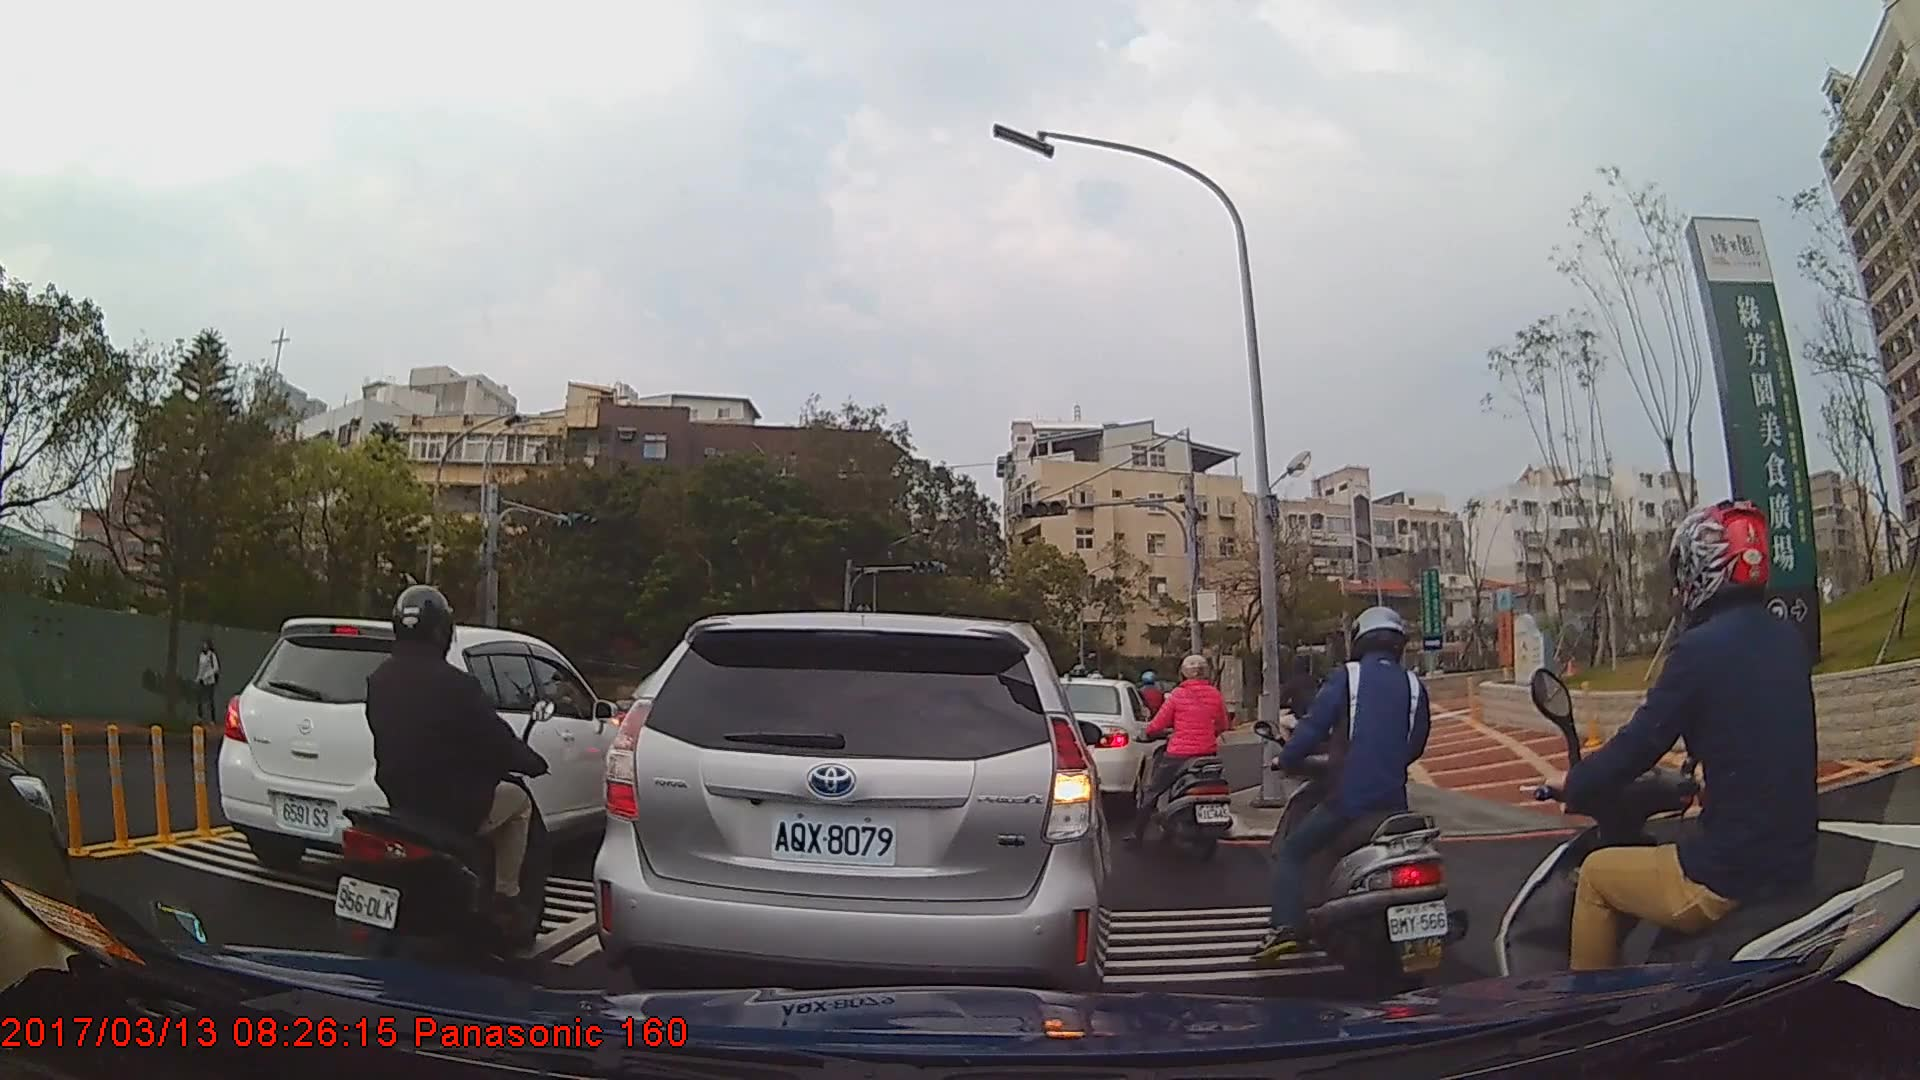pedestrian: (190, 640, 225, 721)
rider: (1489, 502, 1903, 1058), (335, 585, 561, 986), (1263, 608, 1453, 989), (1127, 653, 1236, 864)
vehicle: (594, 612, 1113, 1005), (218, 615, 634, 897), (1053, 677, 1167, 812)
